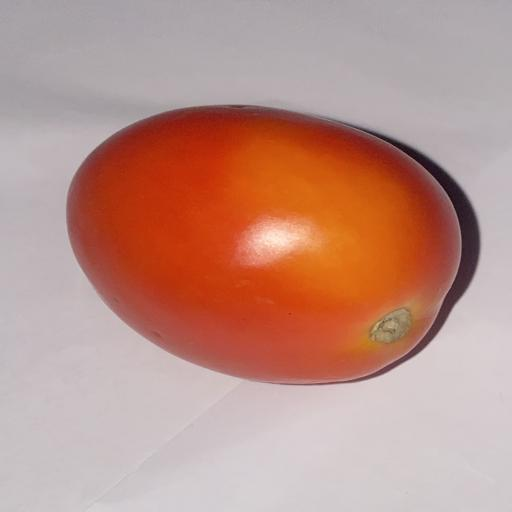ripe: (67, 105, 461, 383)
